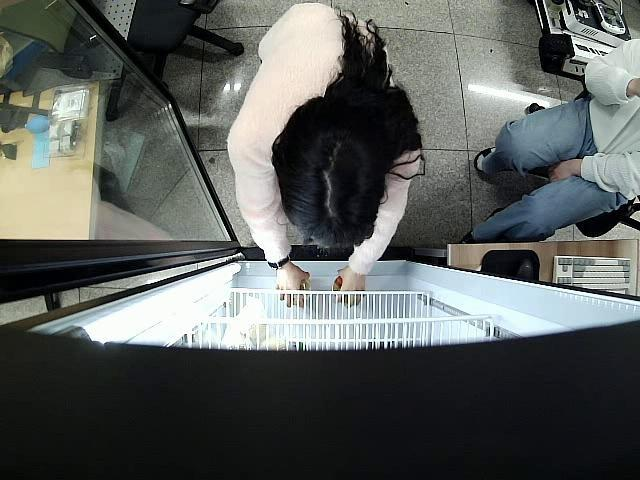04_chapagetti_S: (333, 276, 364, 307)
